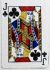jack: (1, 1, 49, 69)
